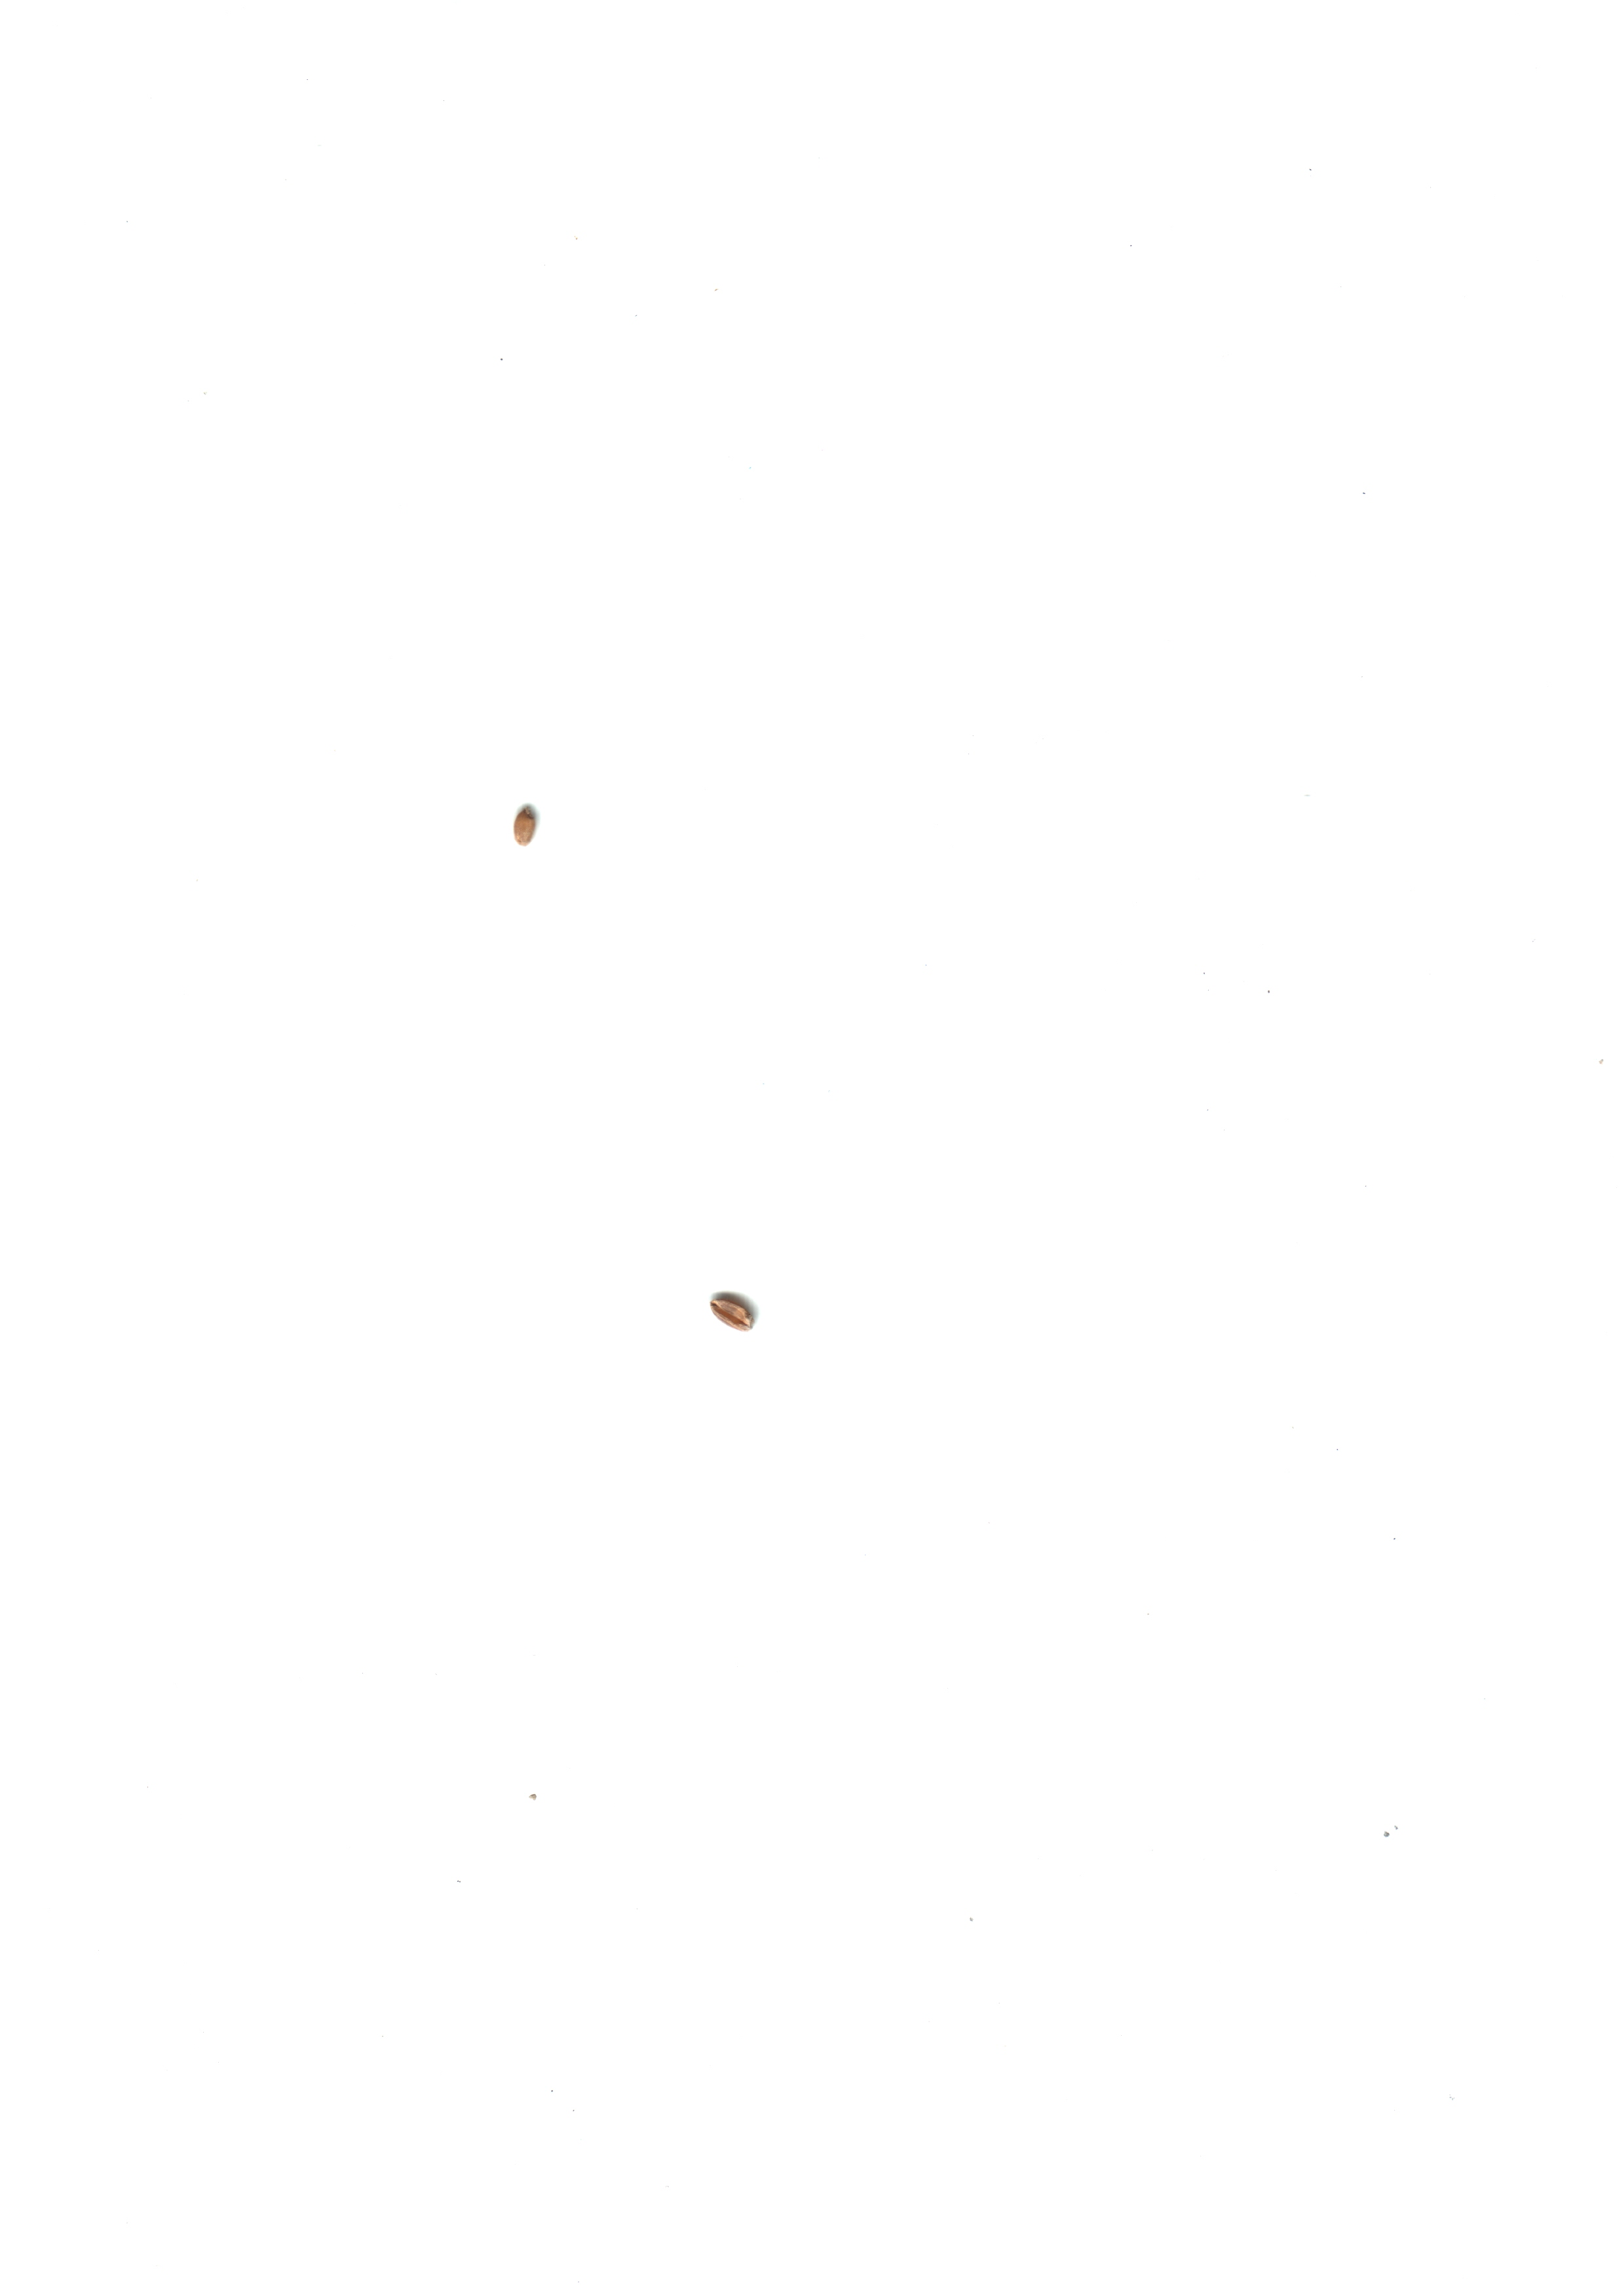grains_2mm: (696, 1267, 776, 1346), (484, 792, 566, 869)
